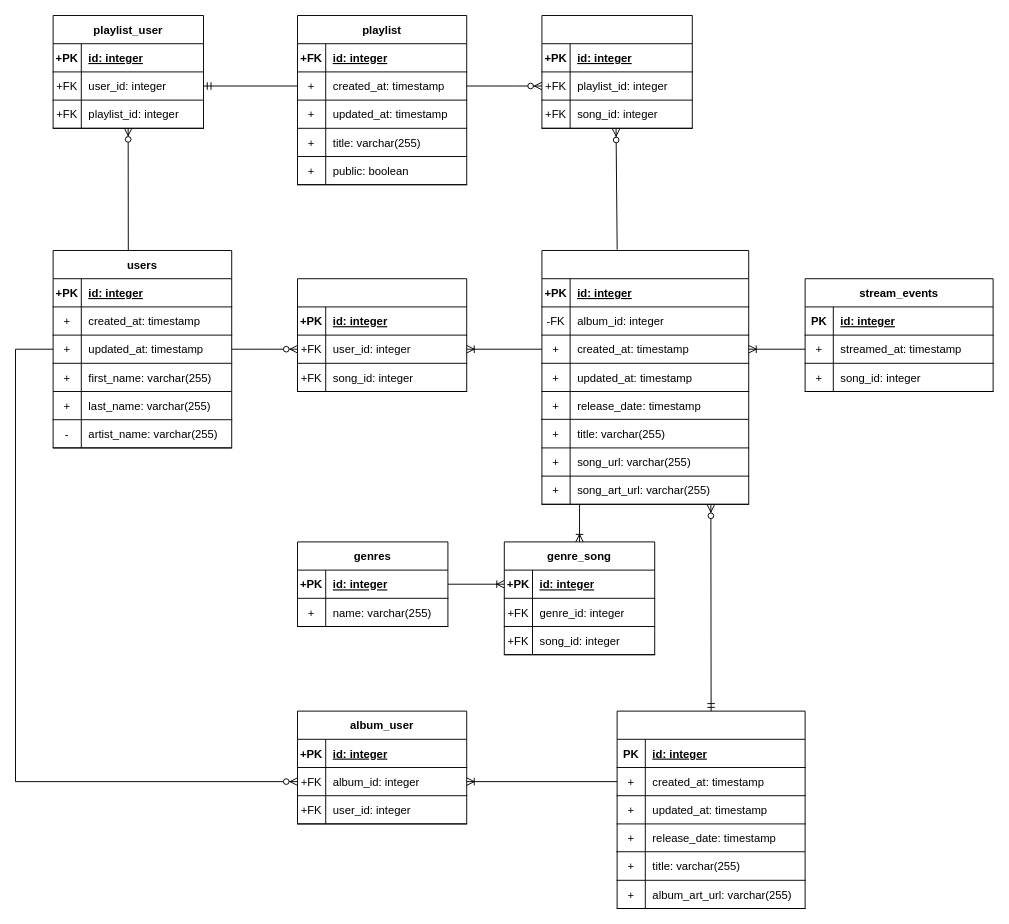
The diagram is 1009 pixels wide and 924 high, and some of its shapes have lost their labels. Here are the shapes that lost their labels. From the top down, the box of each, then its label:
(541, 15, 692, 128): playlist_song
(297, 278, 467, 392): song_user
(541, 250, 749, 504): songs
(616, 710, 805, 909): albums
